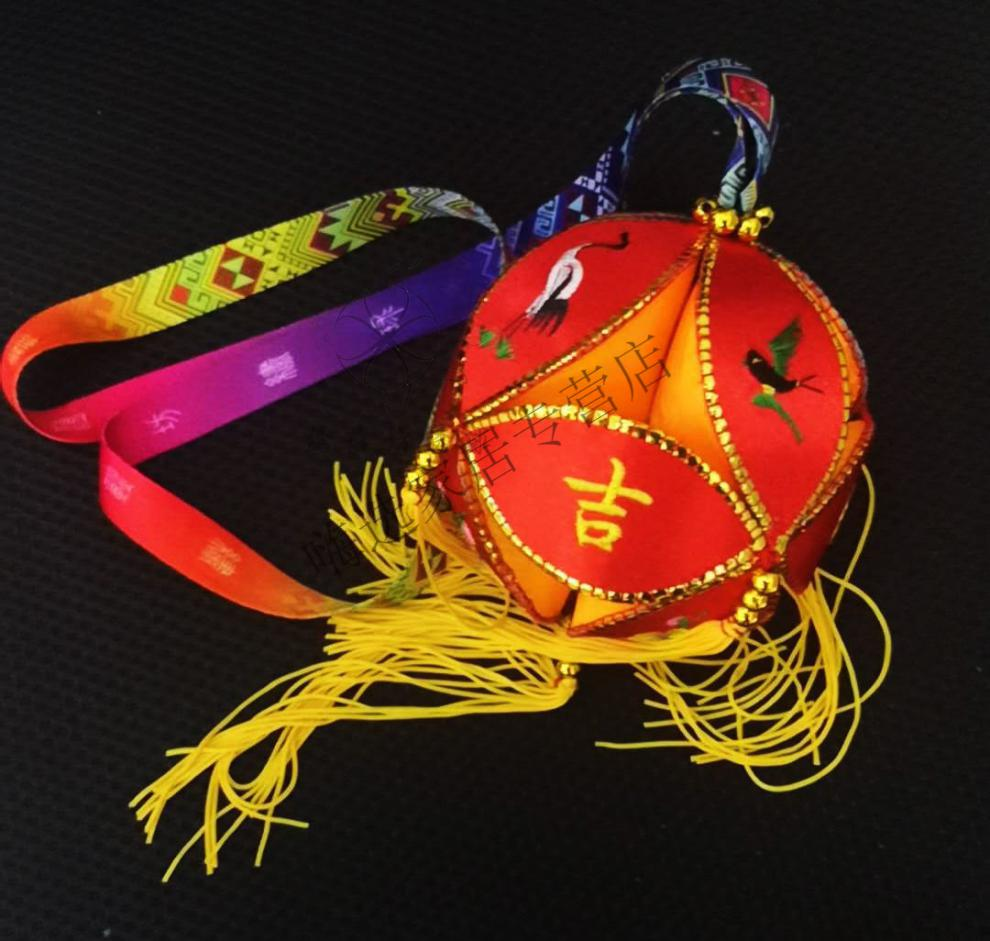xiuqiu: (442, 213, 870, 638)
